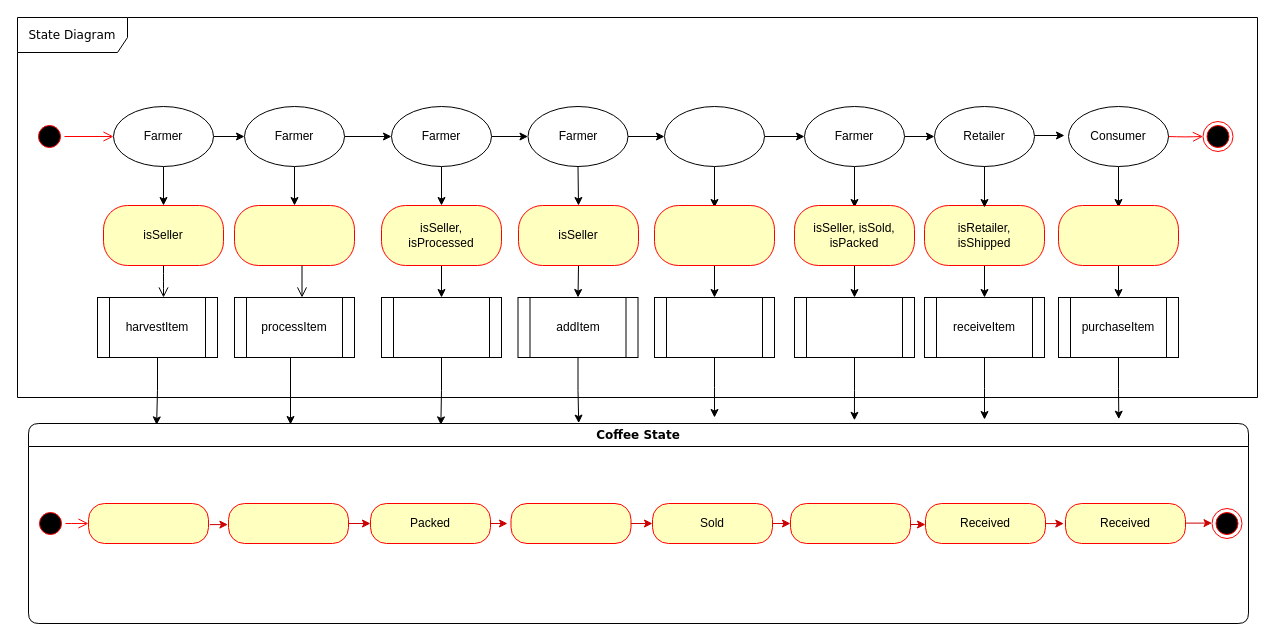
Image size: 1275x641. Some labels were removed from this diagram. Here are the shapes that lost their labels. From the top down, the centre of each, then its label:
At point (714, 136): "Distributor".
At point (294, 235): "isSeller, isHarvested".
At point (714, 235): "isBuyer, isForSale, isPaidEnough, isCheckValue".
At point (1118, 235): "isConsumer, isForPurchase, isPaidEnough, isCheckValue".
At point (441, 327): "packItem".
At point (714, 327): "buyItem".
At point (854, 327): "shipItem".
At point (148, 523): "Harvested".
At point (288, 523): "Processed".
At point (570, 523): "ForSale".
At point (850, 523): "Shipped".
